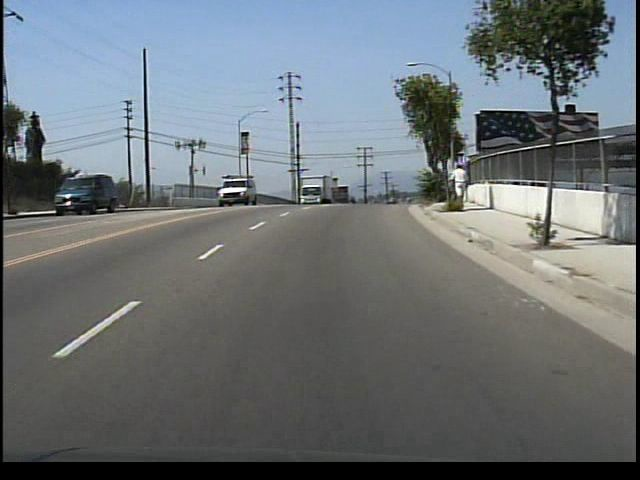person: (449, 161, 471, 197)
